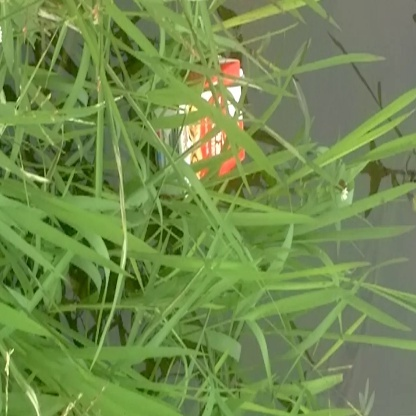milk-box: (148, 47, 266, 180)
